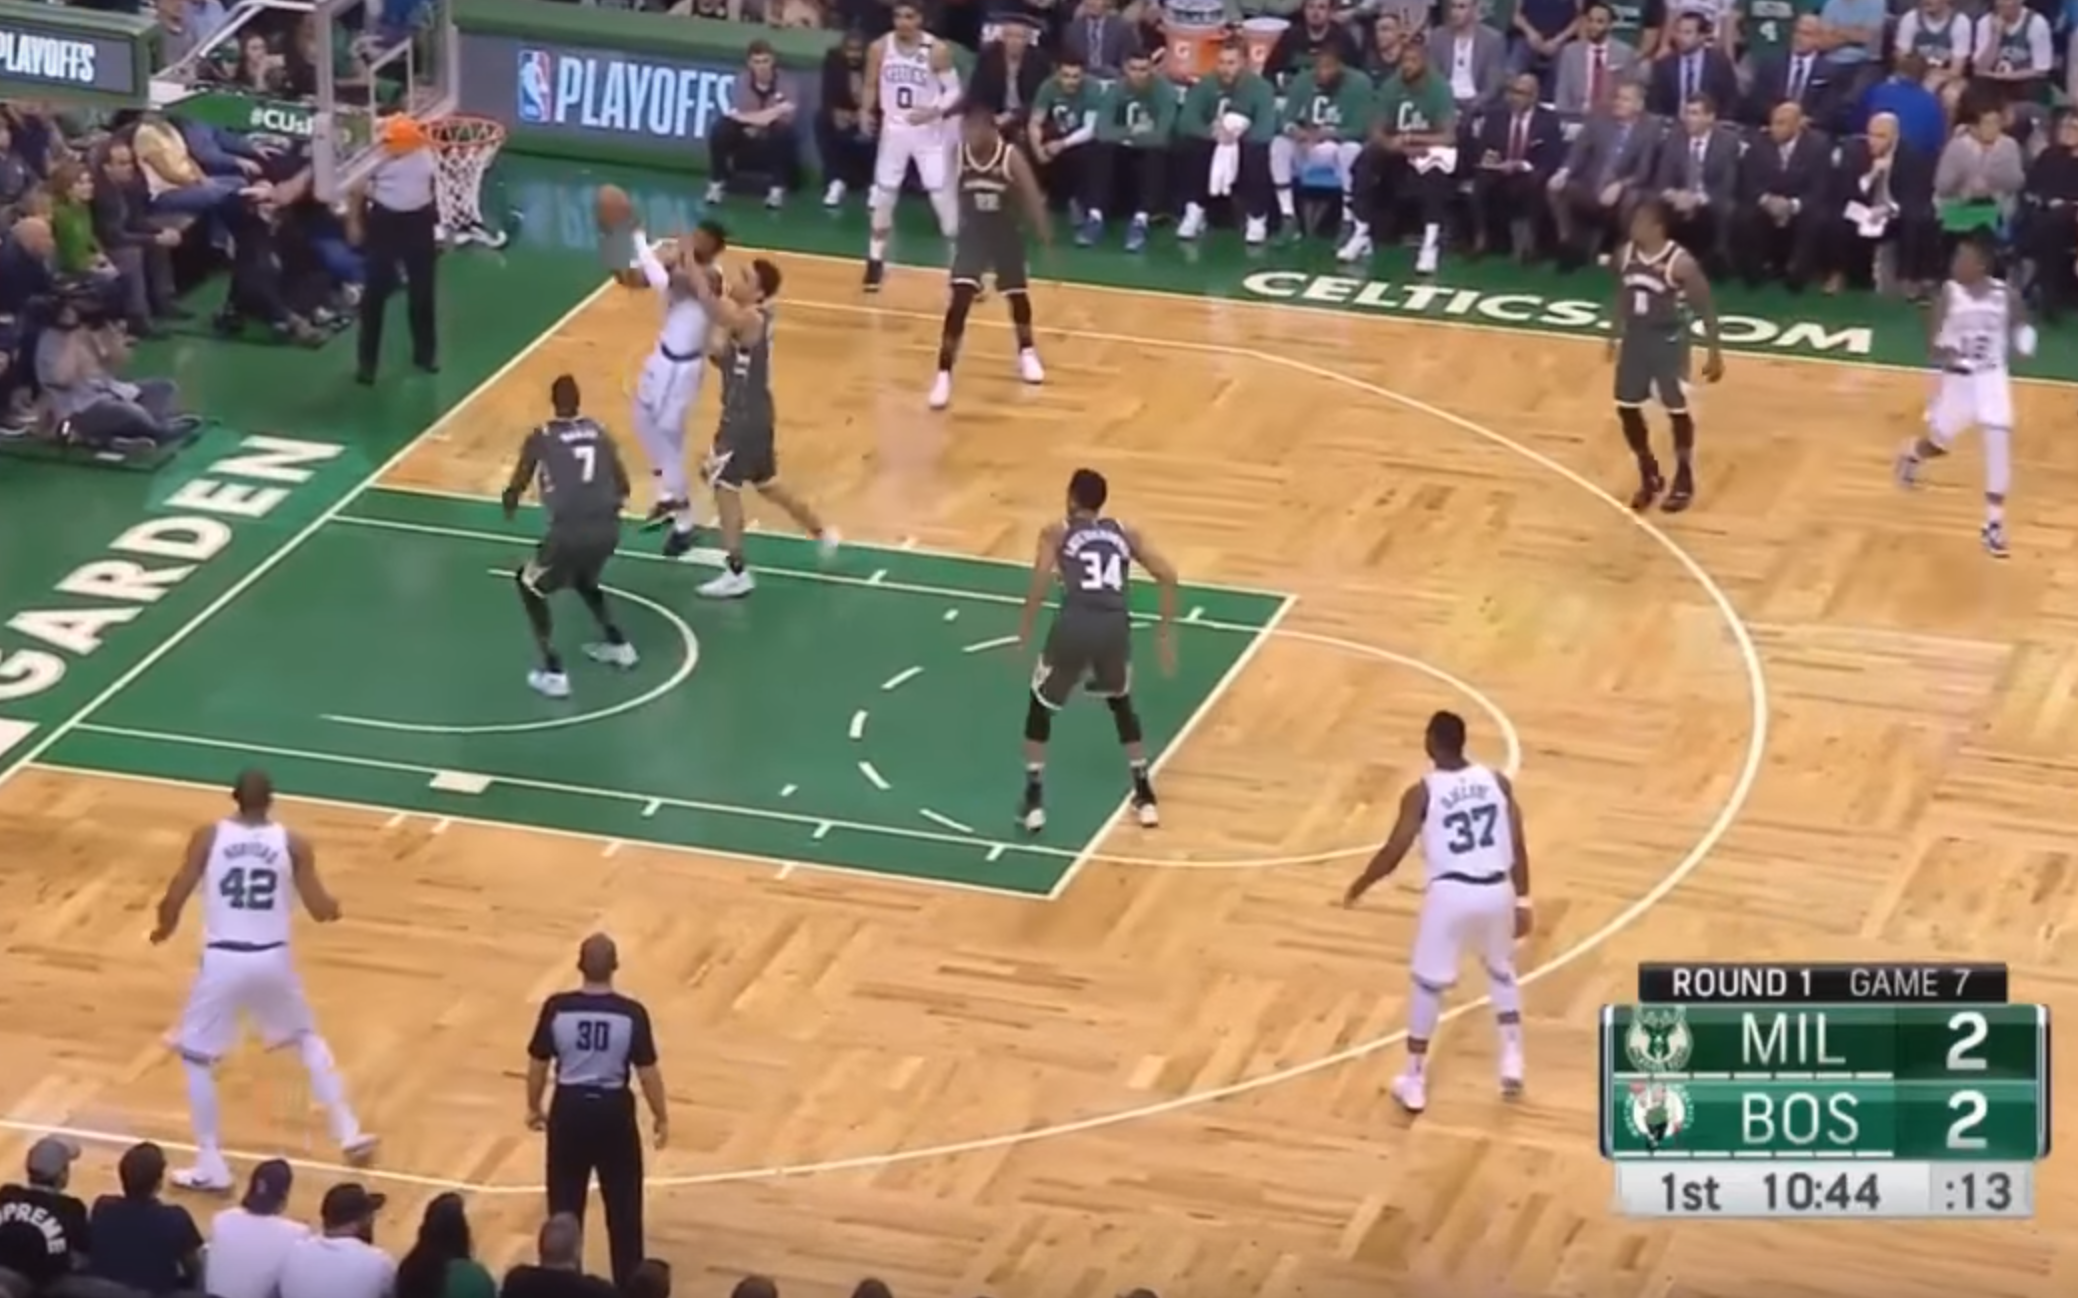basketball: (587, 182, 634, 235)
basketball player: (146, 760, 374, 1163), (1340, 705, 1553, 1125), (994, 464, 1186, 838), (494, 371, 636, 707), (914, 117, 1061, 420), (1894, 247, 2030, 569), (1597, 195, 1729, 518), (704, 252, 796, 607), (640, 205, 722, 559)
